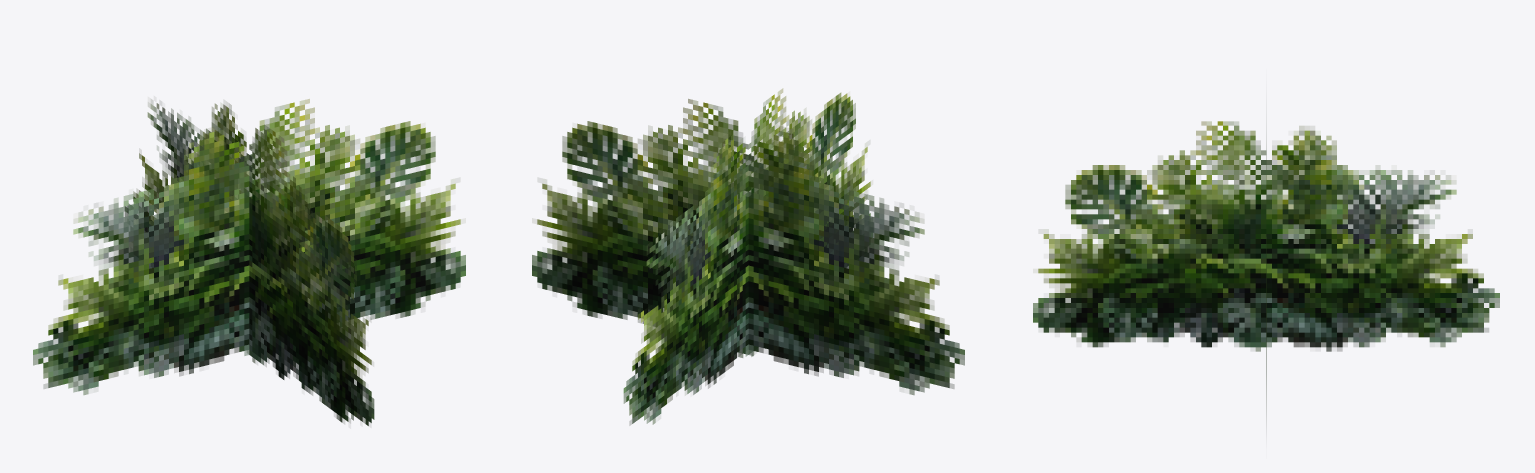
The model's file is bush1.glb.
3 renders of one model, left to right at view 1: azimuth 30°, elevation 25°; view 2: azimuth 150°, elevation 25°; view 3: azimuth 270°, elevation 25°, orthographic. The views are drawn at different scales.
Visible parts, largest first — view 1: Plane.001, Plane; view 2: Plane.001, Plane; view 3: Plane.
Boxes of the visible parts, x1,y1,x2,y2 form: Plane.001: (33, 99, 465, 394); Plane: (124, 99, 374, 425); Plane.001: (532, 99, 964, 394); Plane: (623, 88, 872, 425); Plane: (1033, 121, 1499, 351).
Size of the model in its own units: 4 by 2 by 4.
Materials: 1 (1 with a texture image).
